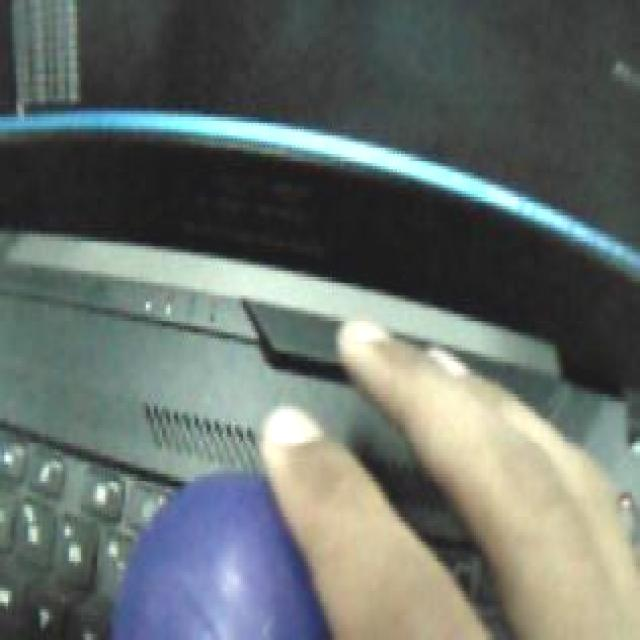BallPurple: (113, 472, 335, 640)
